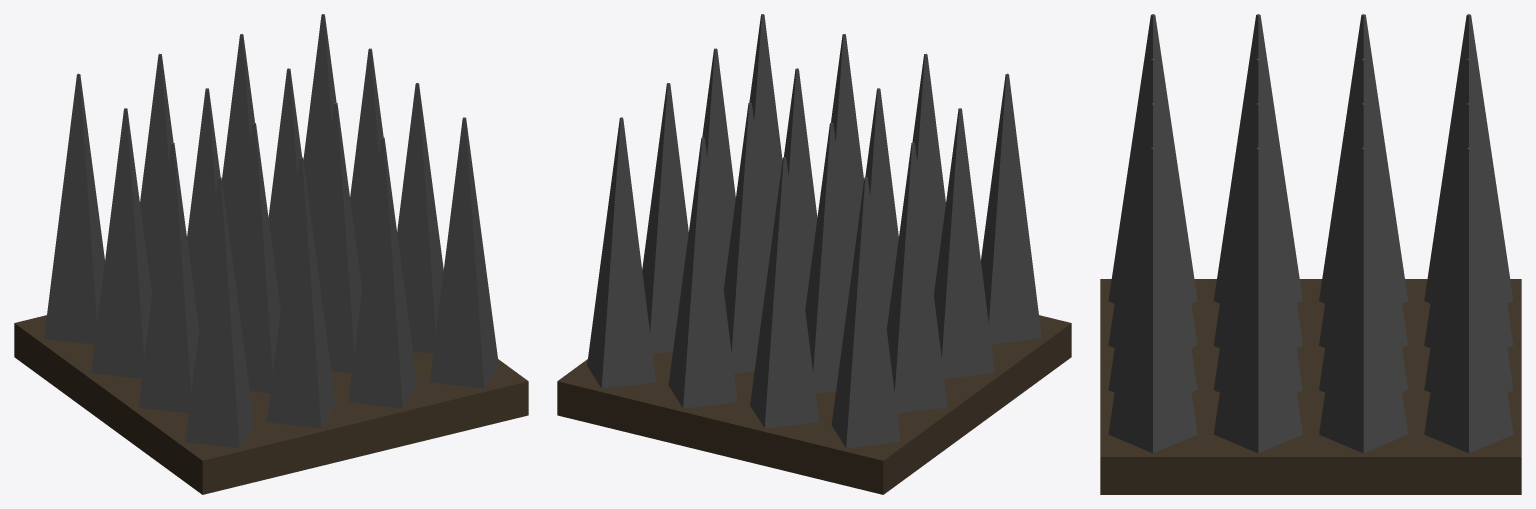
Rendered from Spiketrap.fbx.
The picture shows the model from 3 angles, left to right: view 1: azimuth 30°, elevation 25°; view 2: azimuth 150°, elevation 25°; view 3: azimuth 270°, elevation 25°; orthographic projection. The views are drawn at different scales.
Visible parts, largest first — view 1: Spikes; view 2: Spikes; view 3: Spikes.
Part boxes in pixels (x1,y1,x2,y2): Spikes: (14, 14, 528, 494); Spikes: (557, 14, 1071, 494); Spikes: (1100, 14, 1521, 494).
Size of the model in its own units: 200 by 170 by 200.
